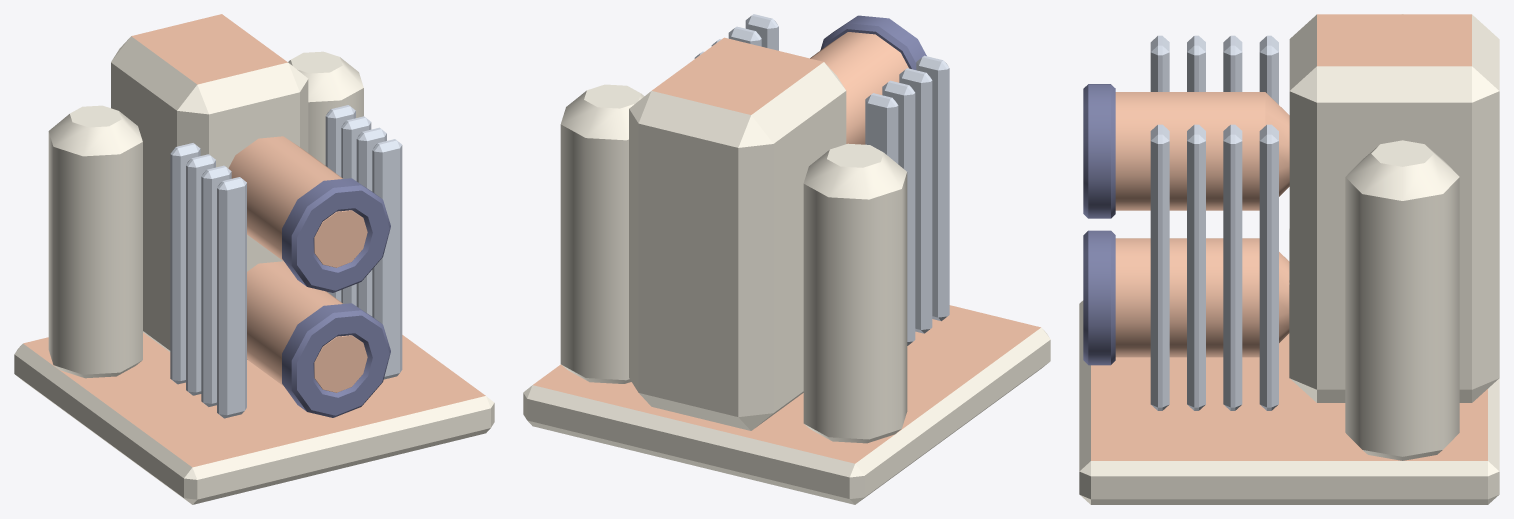
The model's file is R4X_DoubleShotOverdrive_LOD1.fbx.
The picture shows the model from 3 angles, left to right: view 1: azimuth 30°, elevation 25°; view 2: azimuth 150°, elevation 25°; view 3: azimuth 270°, elevation 25°; orthographic projection. The views are drawn at different scales.
Parts seen in each view (by area): view 1: R4X_DoubleShotOverdrive_LOD1; view 2: R4X_DoubleShotOverdrive_LOD1; view 3: R4X_DoubleShotOverdrive_LOD1.
Part boxes in pixels (bbox=[...]): R4X_DoubleShotOverdrive_LOD1: bbox=[14, 14, 494, 504]; R4X_DoubleShotOverdrive_LOD1: bbox=[523, 14, 1050, 504]; R4X_DoubleShotOverdrive_LOD1: bbox=[1079, 14, 1499, 504].
Bounding box in the file's own units: 0.52 × 0.52 × 0.52.
